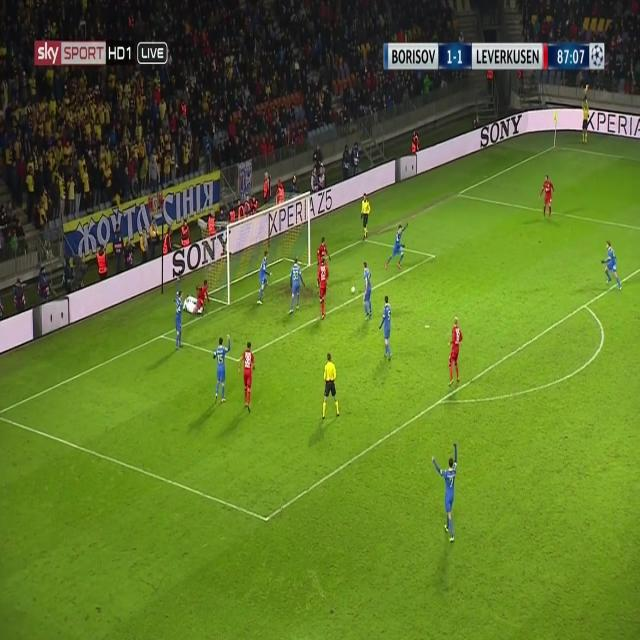Ball: (350, 284, 358, 297)
Goalkeeper: (183, 291, 206, 317)
Player: (432, 438, 461, 548), (237, 339, 258, 418), (210, 331, 232, 406), (445, 314, 465, 388), (383, 219, 410, 273), (599, 236, 625, 292), (378, 294, 395, 364), (290, 256, 306, 317), (538, 172, 557, 222), (256, 250, 272, 308), (362, 260, 374, 325), (318, 256, 329, 321), (175, 286, 185, 351), (197, 276, 213, 310), (316, 235, 332, 264)
Referee: (320, 353, 342, 424), (358, 192, 372, 242), (581, 90, 590, 150)
